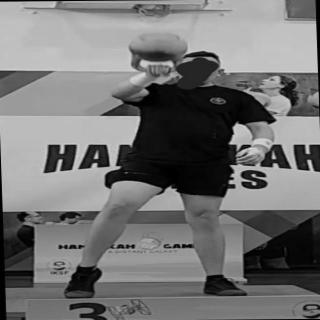kettlebell: (123, 32, 194, 76)
